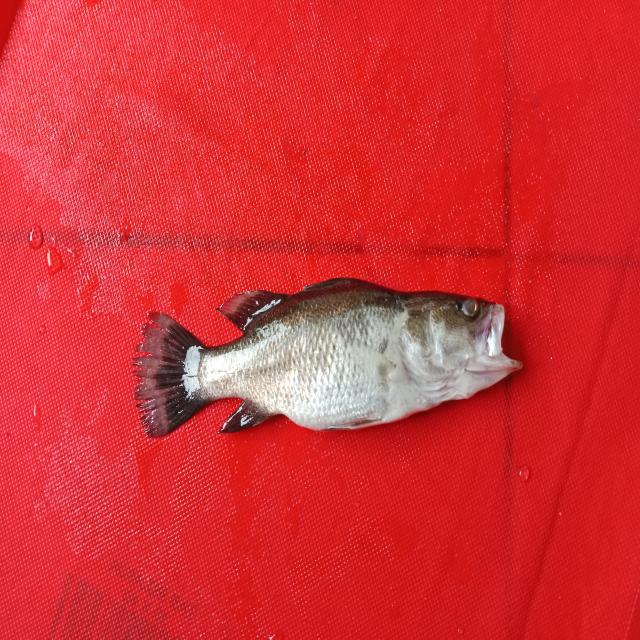ikan: (118, 257, 532, 452)
